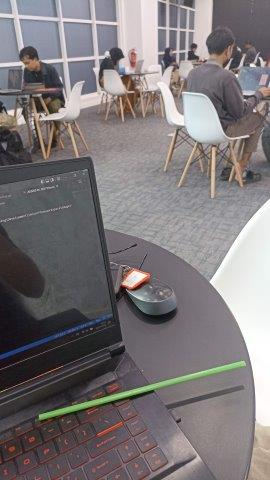sedotan: (39, 361, 245, 421)
